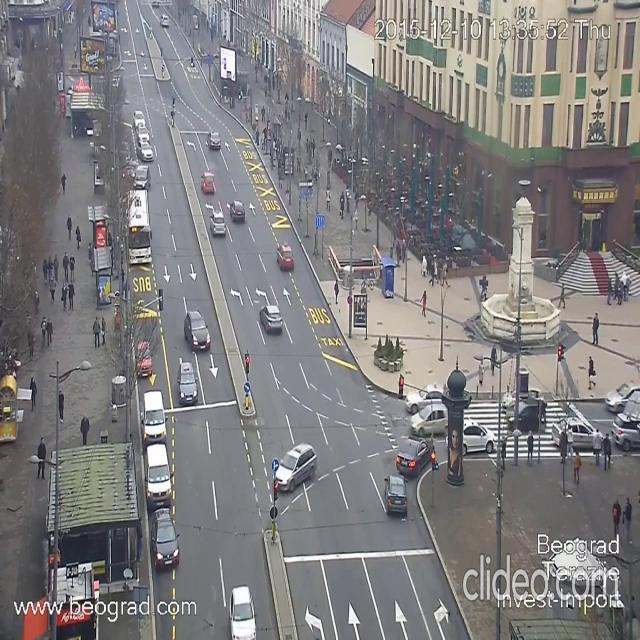bus: (126, 187, 152, 265)
car: (275, 442, 317, 492), (152, 504, 178, 575), (445, 420, 493, 458), (142, 393, 170, 450), (146, 446, 170, 507), (229, 585, 256, 639), (555, 420, 597, 452), (507, 401, 548, 432), (410, 405, 452, 434), (399, 436, 432, 472), (406, 386, 448, 413), (183, 310, 210, 351), (498, 387, 542, 412), (614, 413, 640, 455), (177, 355, 197, 409), (383, 473, 408, 516), (604, 382, 634, 406), (259, 304, 283, 333), (137, 340, 154, 375), (276, 243, 294, 271), (136, 165, 151, 187), (212, 216, 226, 236), (208, 129, 220, 152), (231, 203, 243, 224), (203, 170, 213, 192), (136, 111, 146, 131), (140, 144, 151, 157), (139, 125, 147, 142), (160, 12, 168, 26)
